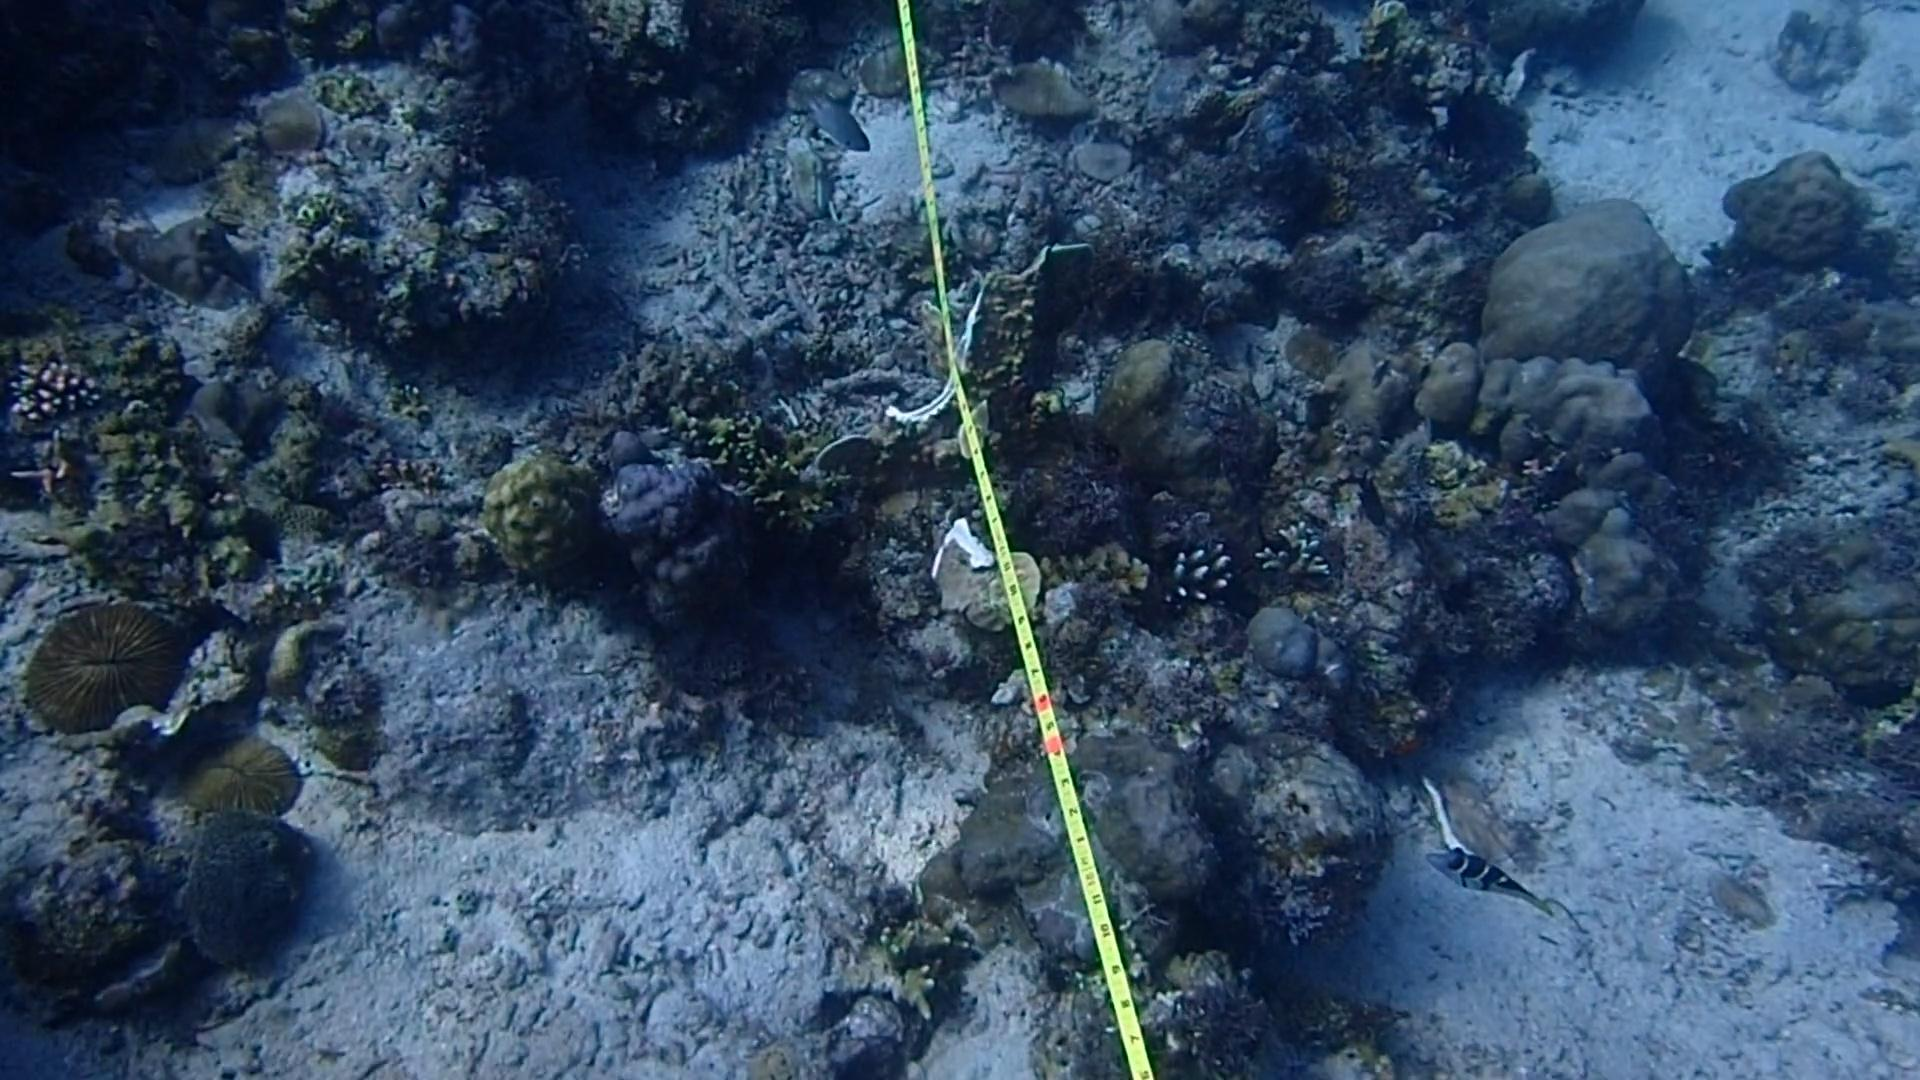Striped Fish: (1412, 836, 1567, 948)
